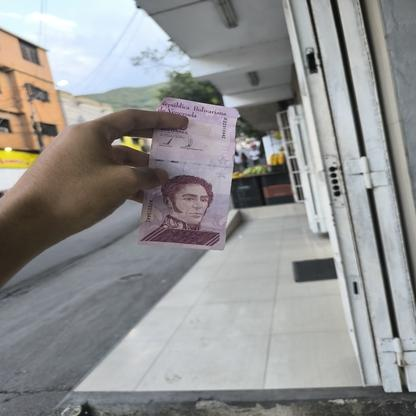one_hundred-front-vef: (136, 98, 238, 252)
